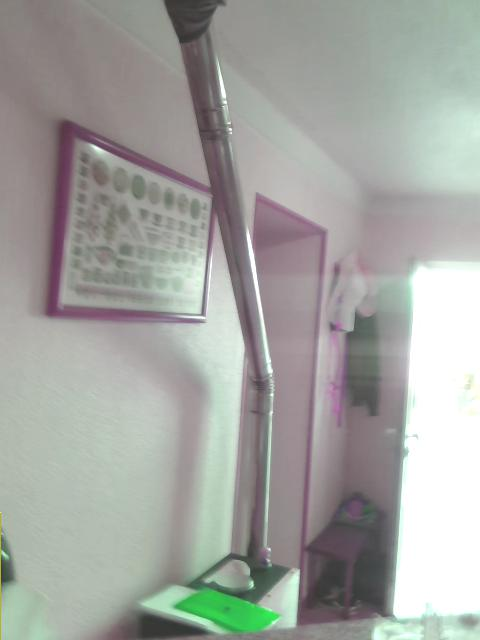open_door: (386, 259, 479, 614)
